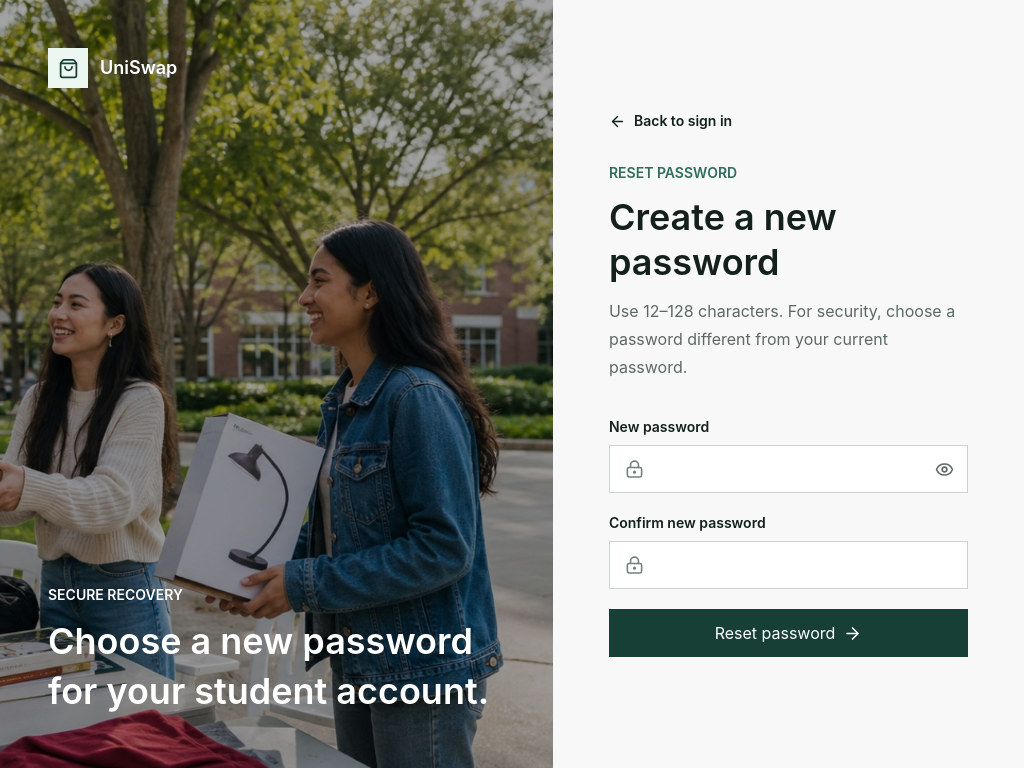
Scenario: UniSwap public and authentication experience › preserves reset-password flow
In the password field labelled "New password": [788, 469] box [609,445,968,493], type "New-strong-password-456"
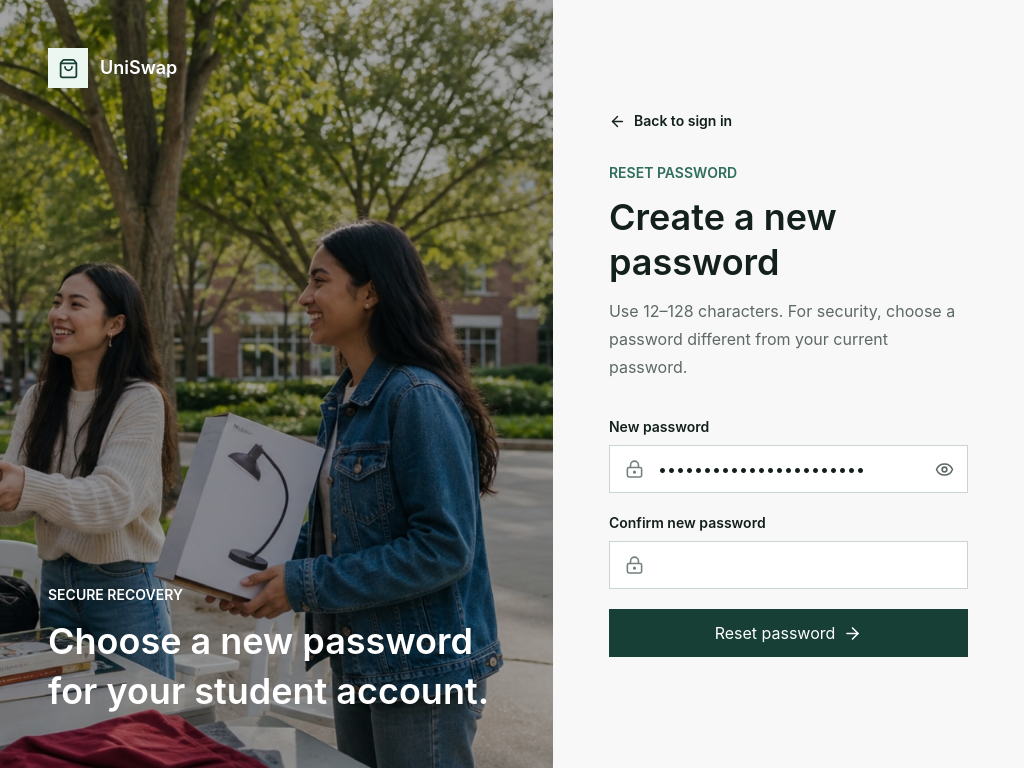
In the password field labelled "Confirm new password": [788, 565] box [609,541,968,589], type "New-strong-password-456"
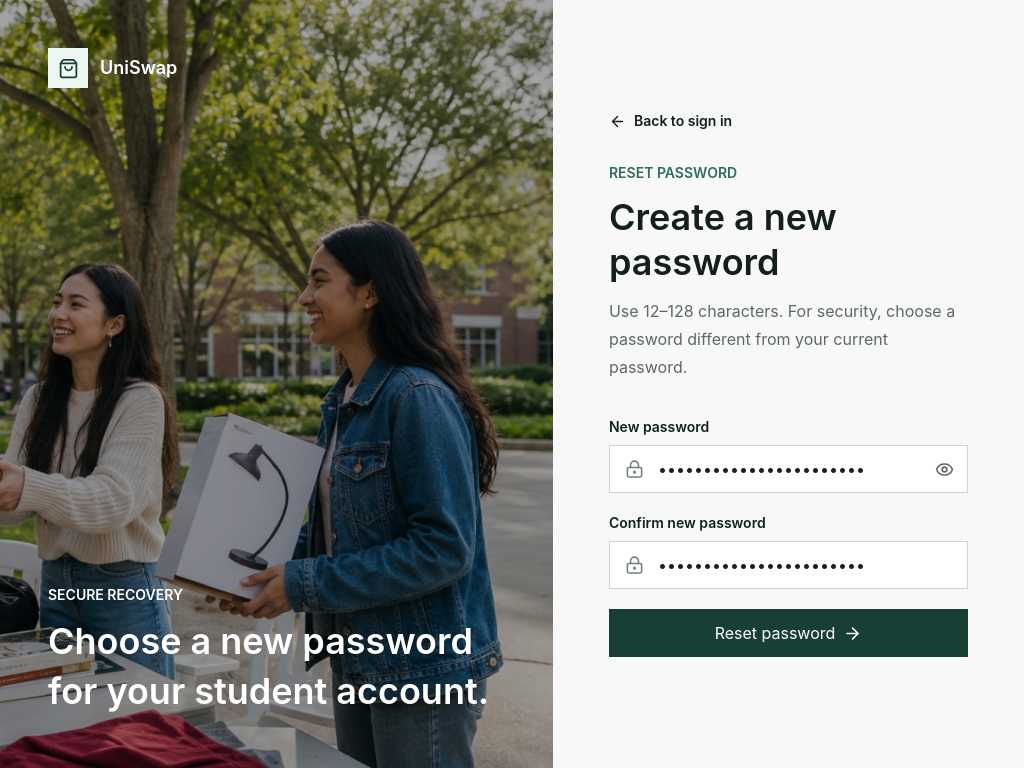
Click the button "Reset password": [788, 633] box [609,609,968,657]
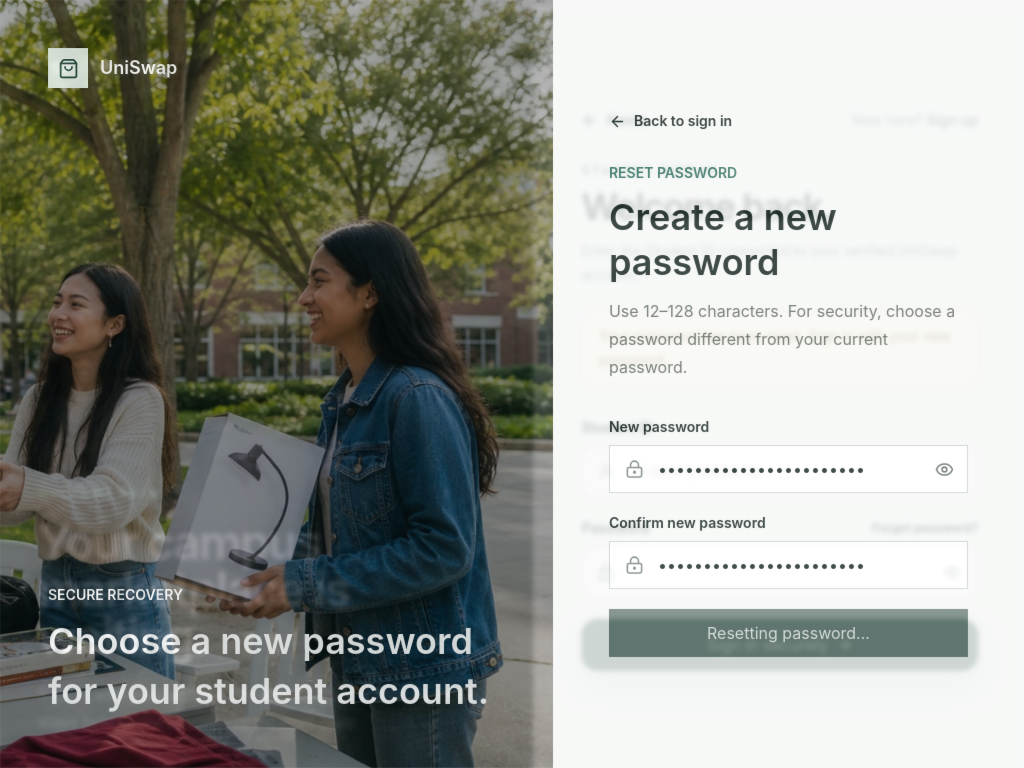
Now the field labelled "Student ID" is shown, box [581,439,976,491]
